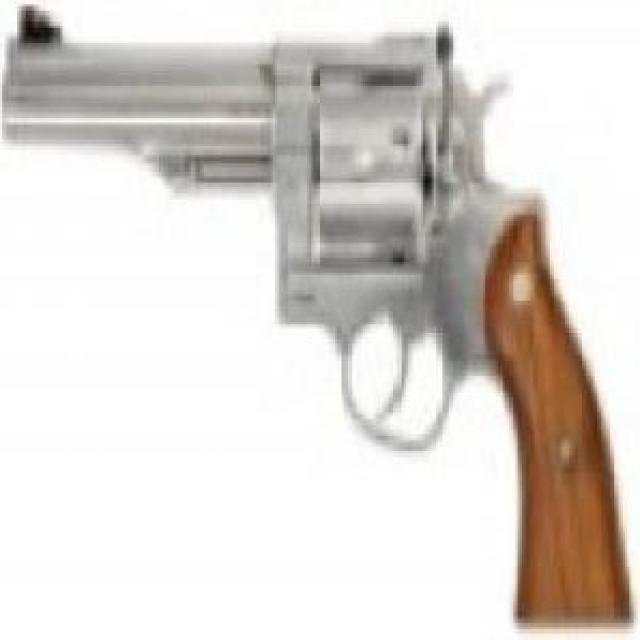pistol: (11, 15, 634, 633)
